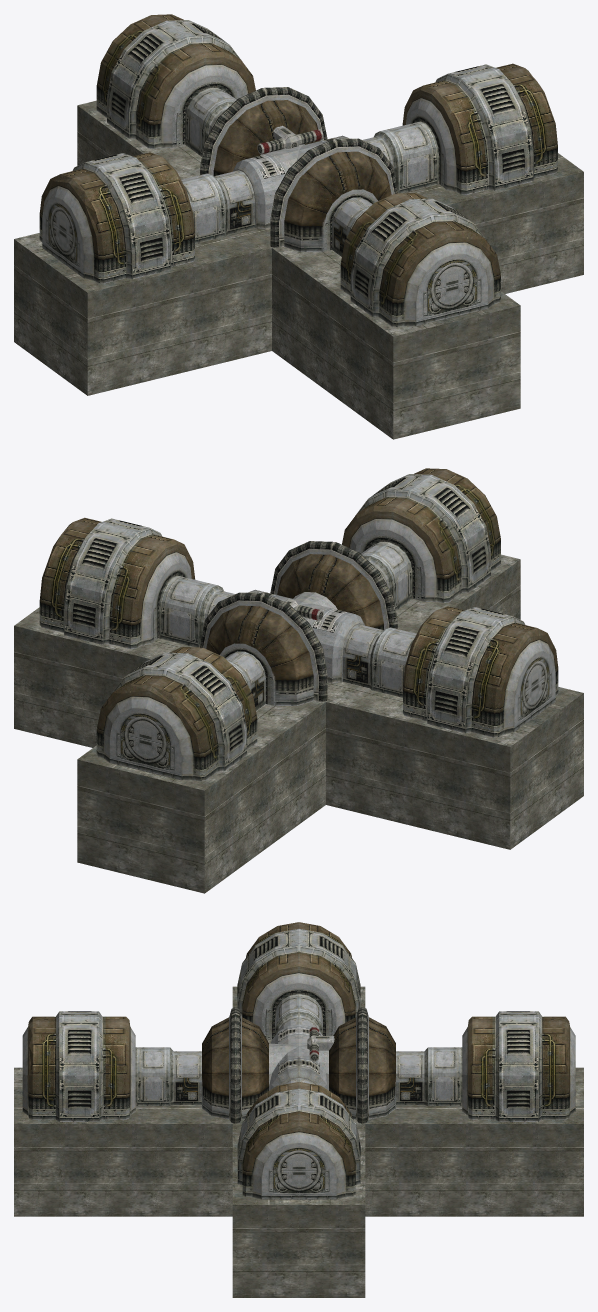
File: ins_shield_generator_l0.fbx
3 views of the same model, one above another, from view 1: azimuth 30°, elevation 25°; view 2: azimuth 150°, elevation 25°; view 3: azimuth 270°, elevation 25° (orthographic). The views are drawn at different scales.
Parts seen in each view (by area): view 1: mesh_node; view 2: mesh_node; view 3: mesh_node.
Boxes of the visible parts, x1,y1,x2,y2 form: mesh_node: (14, 14, 583, 439); mesh_node: (14, 468, 583, 893); mesh_node: (14, 922, 583, 1297).
Bounding box in the file's own units: 15.76 × 5.91 × 17.39.
